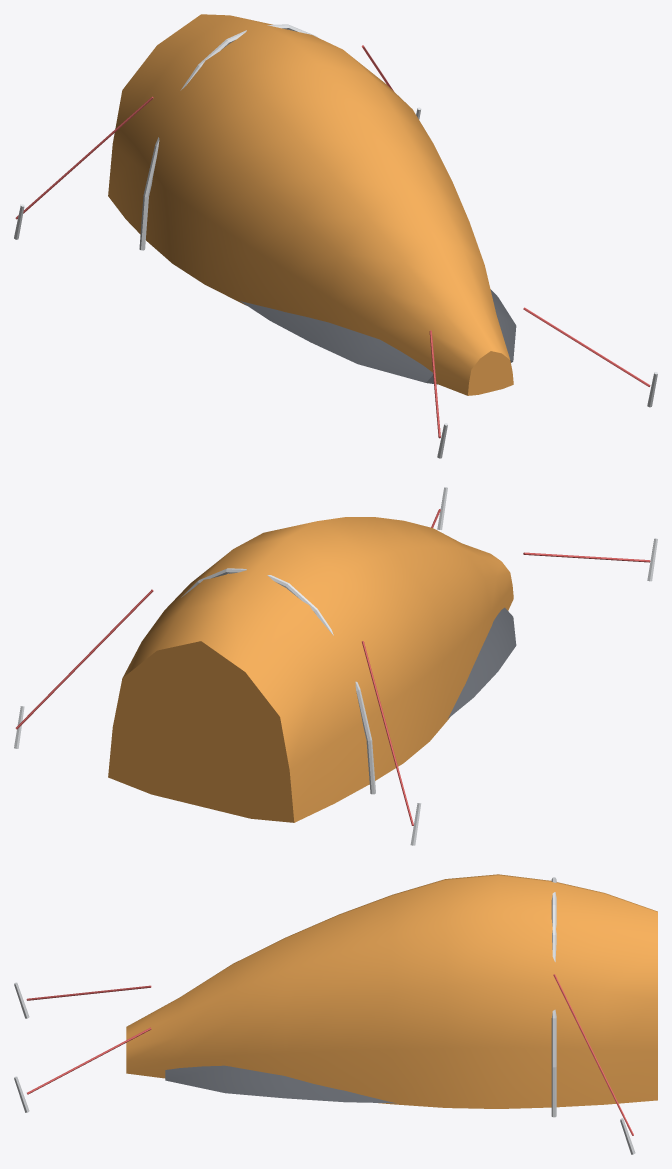
Rendered from mountaineering-and-summit-expedition-single-hoop-assau-9891f586__18794.glb.
The picture shows the model from 3 angles, top to bottom: view 1: azimuth 30°, elevation 25°; view 2: azimuth 150°, elevation 25°; view 3: azimuth 270°, elevation 25°; orthographic projection. The views are drawn at different scales.
Parts seen in each view (by area): view 1: single-hoop-assault-tent; view 2: single-hoop-assault-tent; view 3: single-hoop-assault-tent.
Part boxes in pixels (bbox=[...]): single-hoop-assault-tent: bbox=[14, 14, 657, 458]; single-hoop-assault-tent: bbox=[14, 487, 657, 845]; single-hoop-assault-tent: bbox=[14, 874, 657, 1154].
Size of the model in its own units: 1.72 by 0.8457 by 2.6.
